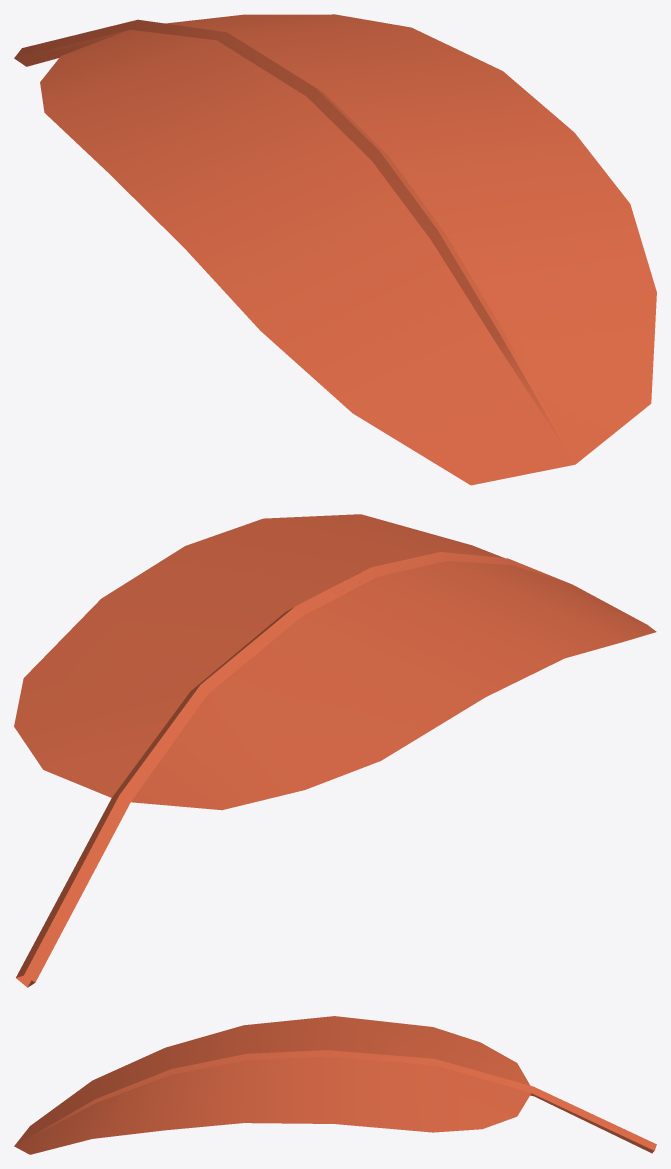
File: MESH_Beach_Props_Leaf01.fbx
The picture shows the model from 3 angles, top to bottom: view 1: azimuth 30°, elevation 25°; view 2: azimuth 150°, elevation 25°; view 3: azimuth 270°, elevation 25°; orthographic projection. The views are drawn at different scales.
Visible parts, largest first — view 1: MESH_Beach_Props_Leaf01; view 2: MESH_Beach_Props_Leaf01; view 3: MESH_Beach_Props_Leaf01.
Part boxes in pixels (x1=…): MESH_Beach_Props_Leaf01: x1=14, y1=14, x2=656, y2=485; MESH_Beach_Props_Leaf01: x1=14, y1=514, x2=656, y2=987; MESH_Beach_Props_Leaf01: x1=14, y1=1016, x2=656, y2=1154.
Bounding box in the file's own units: 2.25 × 0.9903 × 5.47.
